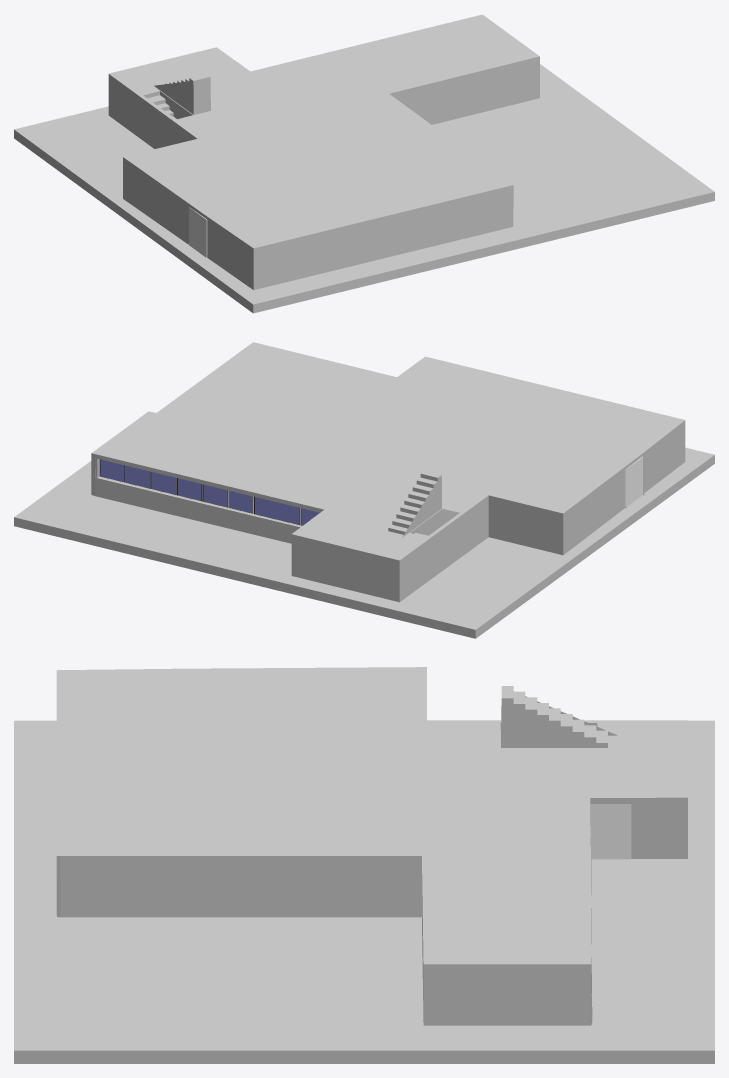
3 views of the same model, one above another, from view 1: azimuth 30°, elevation 25°; view 2: azimuth 150°, elevation 25°; view 3: azimuth 270°, elevation 25° (orthographic). The views are drawn at different scales.
Visible parts, largest first — view 1: mur, plafond, Cube, CTRL_Hole.001; view 2: mur, plafond, Window.002, Cube, CTRL_Hole.001; view 3: mur, plafond, Cube, CTRL_Hole.002.
Boxes of the visible parts, x1=… form: mur: x1=14, y1=14, x2=714, y2=313; plafond: x1=109, y1=15, x2=536, y2=246; Cube: x1=154, y1=74, x2=210, y2=114; CTRL_Hole.001: x1=189, y1=207, x2=207, y2=257; mur: x1=14, y1=342, x2=714, y2=638; plafond: x1=94, y1=357, x2=684, y2=560; Window.002: x1=99, y1=459, x2=319, y2=526; Cube: x1=388, y1=470, x2=441, y2=537; CTRL_Hole.001: x1=625, y1=456, x2=642, y2=507; mur: x1=14, y1=667, x2=714, y2=1063; plafond: x1=56, y1=667, x2=687, y2=964; Cube: x1=501, y1=686, x2=617, y2=747; CTRL_Hole.002: x1=590, y1=804, x2=631, y2=859.
Size of the model in its own units: 3468 by 616 by 3113.
